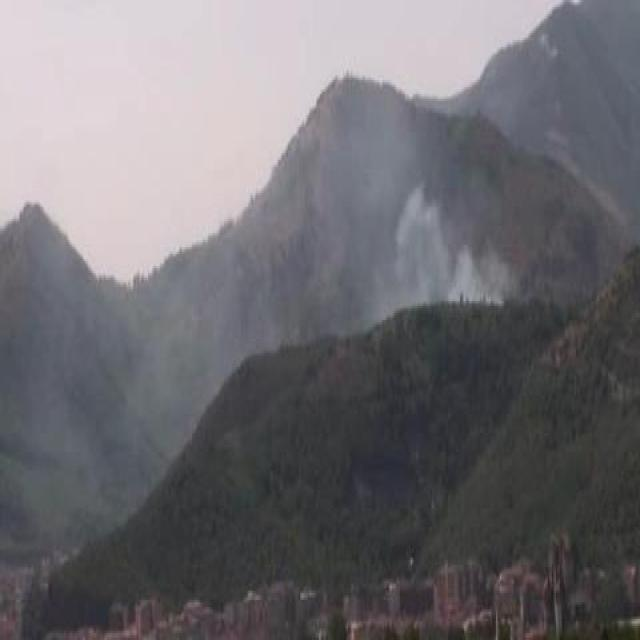Smoke: (316, 118, 513, 306)
